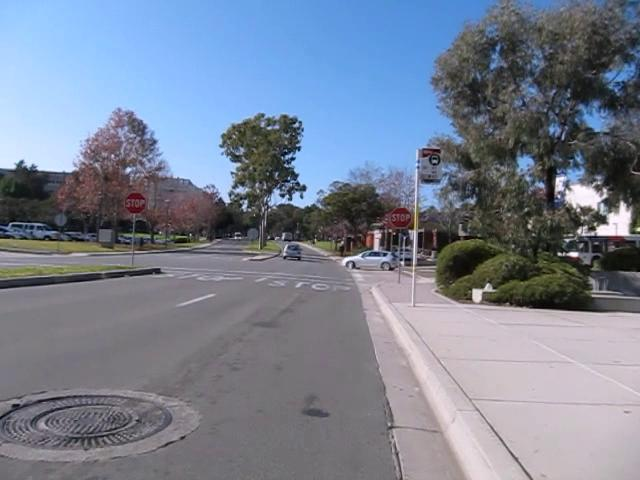stop: (123, 190, 147, 214), (389, 207, 412, 229)
